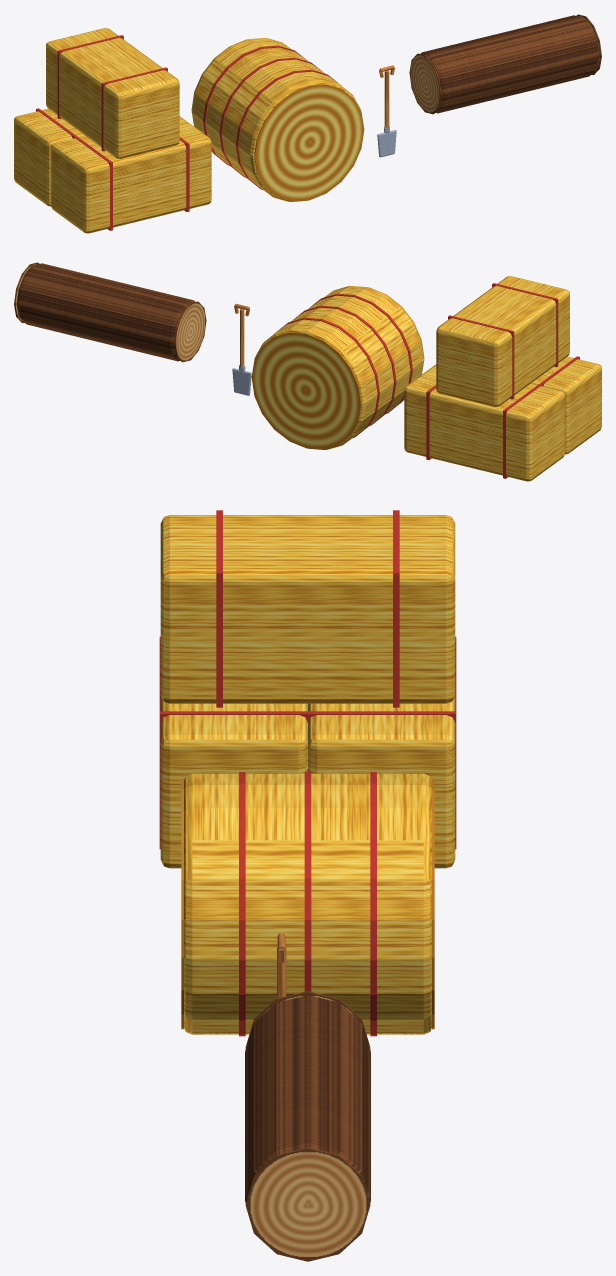
The model's file is lt2_painted.glb.
3 renders of one model, top to bottom at view 1: azimuth 30°, elevation 25°; view 2: azimuth 150°, elevation 25°; view 3: azimuth 270°, elevation 25°, orthographic. The views are drawn at different scales.
Parts seen in each view (by area): view 1: RoundBale, SquareBale.002, SquareBale, Log, SquareBale.001, SmallShovel; view 2: RoundBale, SquareBale.002, SquareBale.001, Log, SquareBale, SmallShovel; view 3: RoundBale, SquareBale.002, Log, SquareBale, SquareBale.001.
Part boxes in pixels (left/top/right/bottom): RoundBale: left=191, top=38, right=364, bottom=201; SquareBale.002: left=46, top=28, right=179, bottom=158; SquareBale: left=50, top=116, right=211, bottom=233; Log: left=409, top=14, right=601, bottom=114; SquareBale.001: left=14, top=108, right=84, bottom=206; SmallShovel: left=377, top=65, right=396, bottom=157; RoundBale: left=251, top=286, right=424, bottom=449; SquareBale.002: left=436, top=276, right=569, bottom=406; SquareBale.001: left=404, top=364, right=565, bottom=481; Log: left=14, top=262, right=206, bottom=362; SquareBale: left=531, top=356, right=601, bottom=454; SmallShovel: left=232, top=303, right=251, bottom=395; RoundBale: left=181, top=772, right=434, bottom=1036; SquareBale.002: left=160, top=510, right=455, bottom=707; Log: left=245, top=991, right=370, bottom=1261; SquareBale: left=159, top=636, right=308, bottom=868; SquareBale.001: left=307, top=636, right=456, bottom=868.
Bounding box in the file's own units: 4.72 × 1.35 × 1.13.
7 materials, 6 textured.
